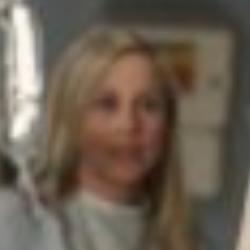face: (36, 20, 187, 213)
